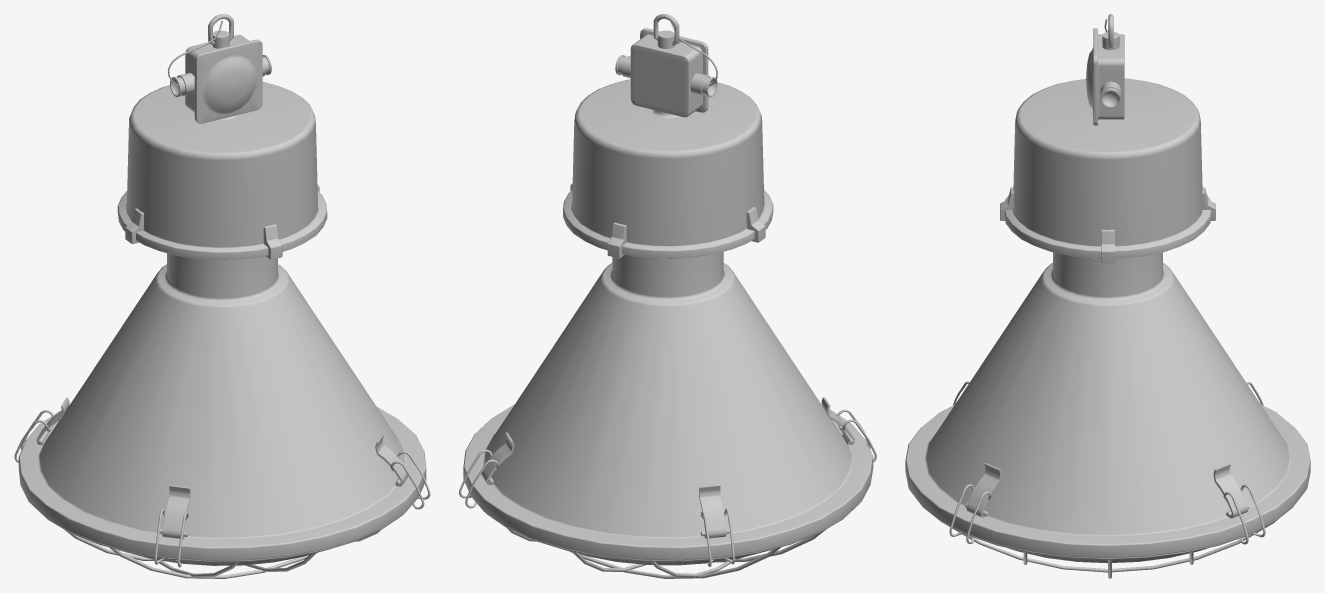
The model's file is sm_Lamp_02_02.fbx.
3 renders of one model, left to right at view 1: azimuth 30°, elevation 25°; view 2: azimuth 150°, elevation 25°; view 3: azimuth 270°, elevation 25°, orthographic.
Visible parts, largest first — view 1: sm_Lamp_02_02_LOD0; view 2: sm_Lamp_02_02_LOD0; view 3: sm_Lamp_02_02_LOD0.
Boxes of the visible parts, x1,y1,x2,y2 form: sm_Lamp_02_02_LOD0: [14, 14, 430, 578]; sm_Lamp_02_02_LOD0: [459, 14, 876, 578]; sm_Lamp_02_02_LOD0: [905, 14, 1310, 578].
Bounding box in the file's own units: 43.91 × 43.91 × 64.28.
